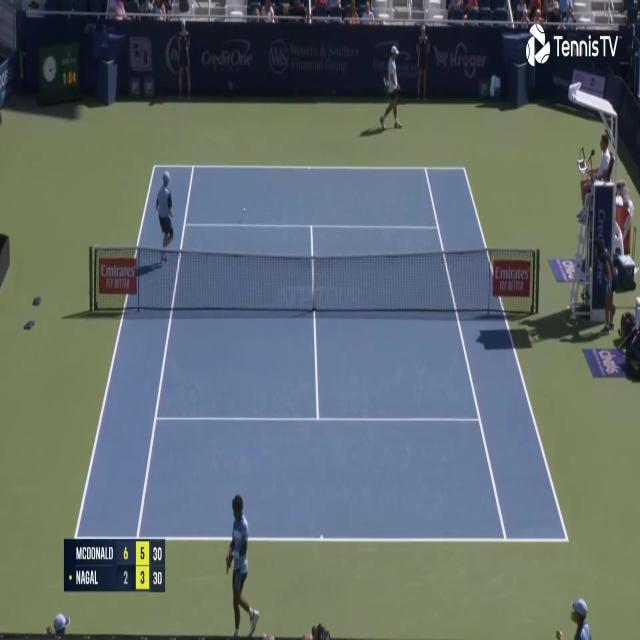tennis-player: (223, 492, 260, 636), (379, 42, 404, 132)
